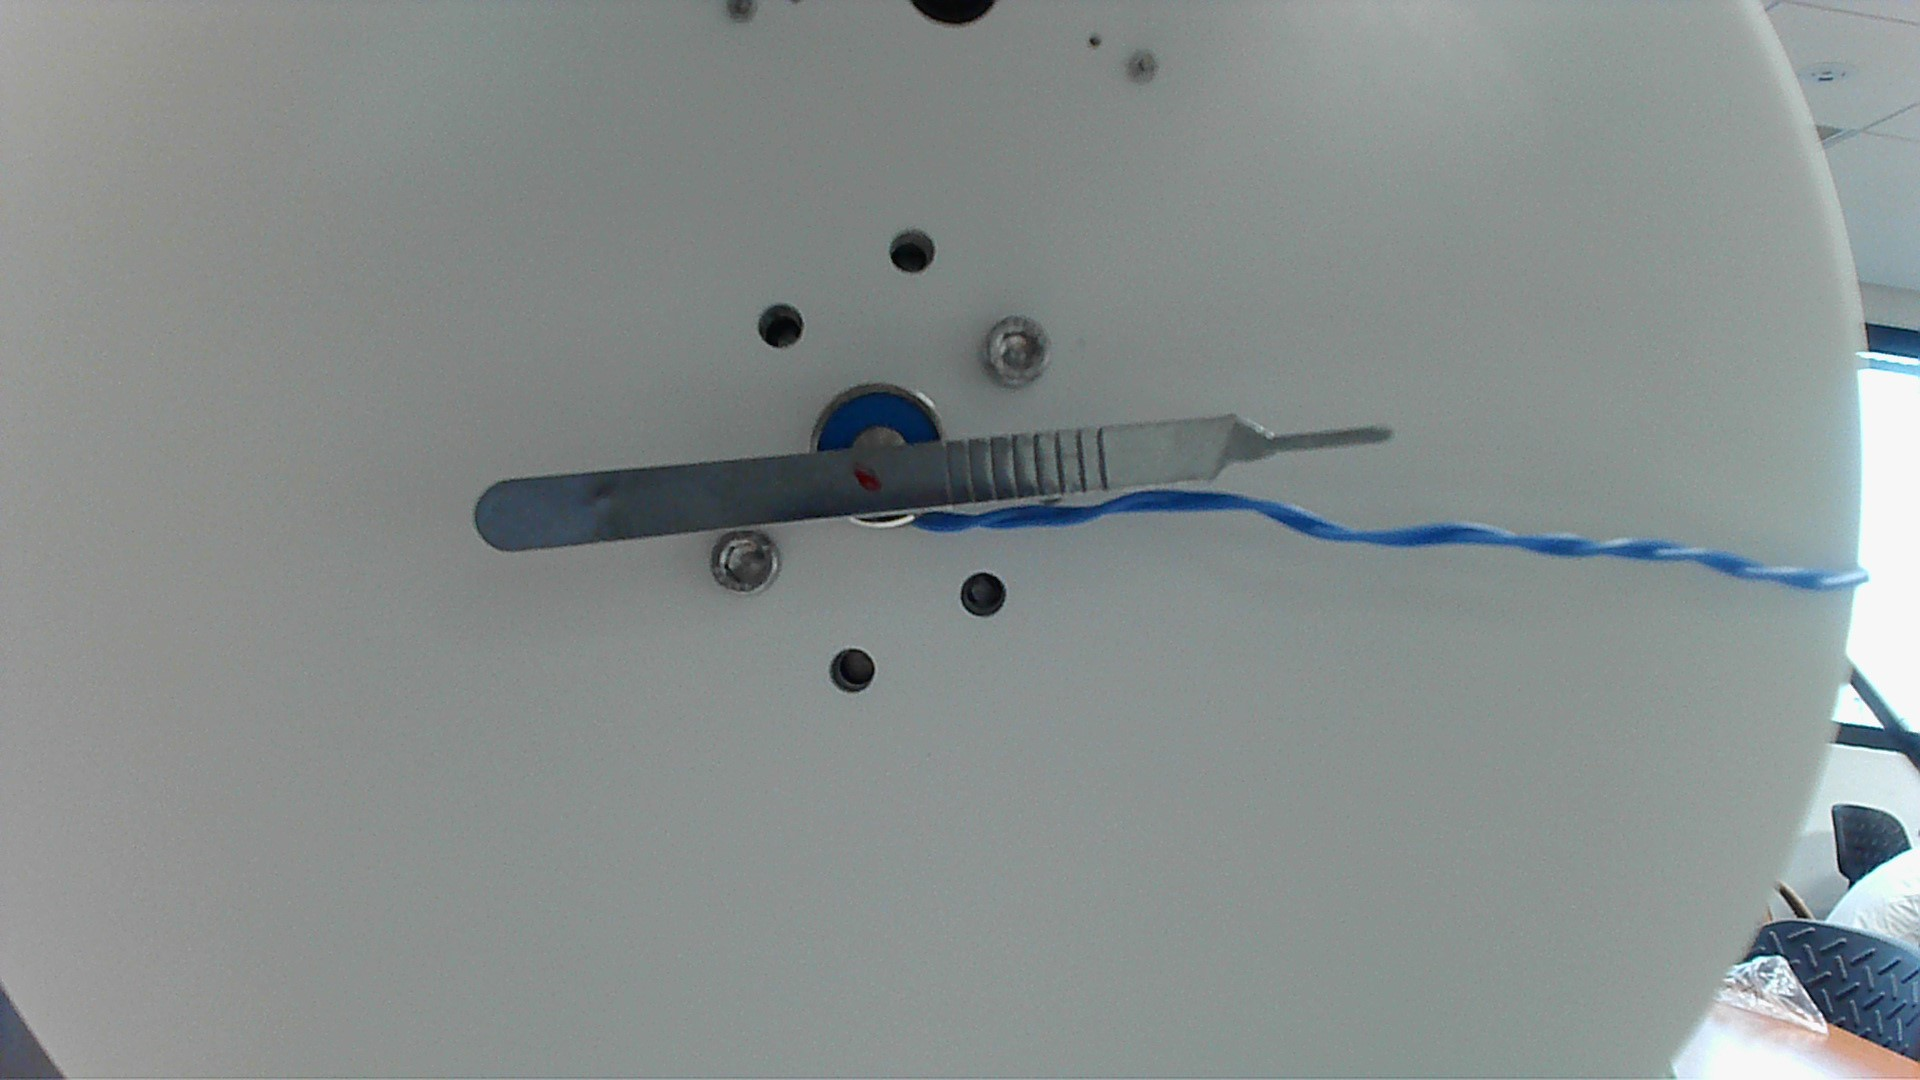Stain: (844, 458, 886, 493)
